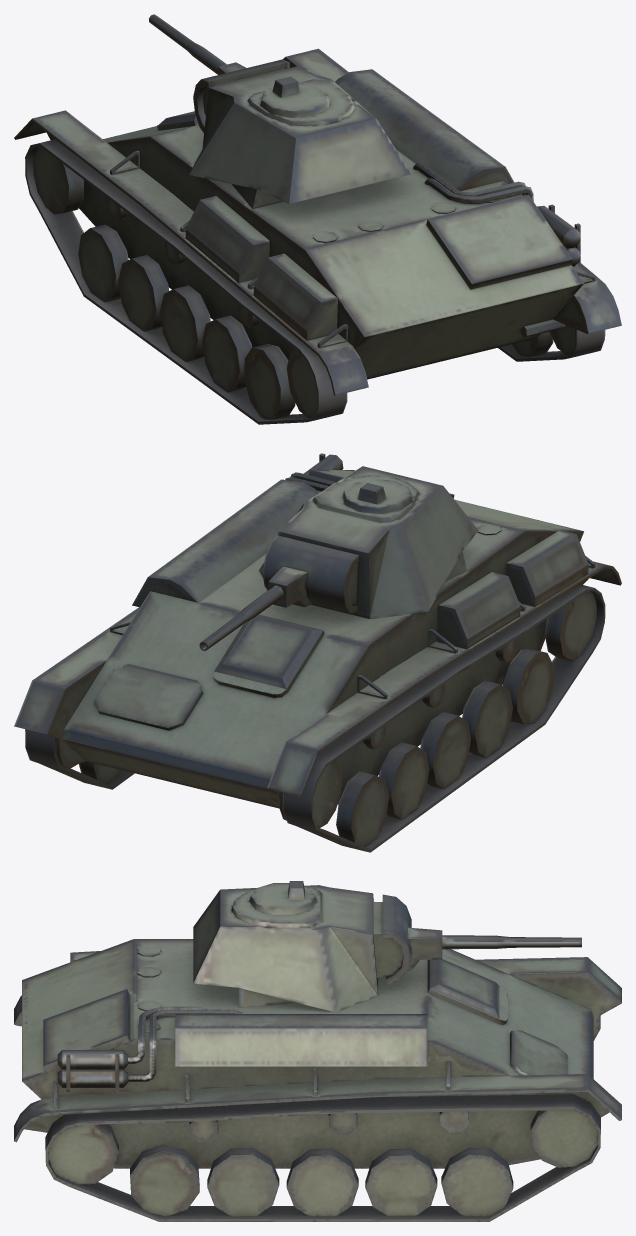
The picture shows the model from 3 angles, top to bottom: view 1: azimuth 30°, elevation 25°; view 2: azimuth 150°, elevation 25°; view 3: azimuth 270°, elevation 25°; orthographic projection. The views are drawn at different scales.
Parts seen in each view (by area): view 1: T-70 Hull, T-70 Turret; view 2: T-70 Hull, T-70 Turret; view 3: T-70 Hull, T-70 Turret.
Part boxes in pixels (box(x1,y1,x2,y2)): T-70 Hull: box(14, 48, 621, 424); T-70 Turret: box(149, 14, 411, 208); T-70 Hull: box(14, 453, 621, 852); T-70 Turret: box(199, 466, 478, 650); T-70 Hull: box(14, 939, 621, 1221); T-70 Turret: box(193, 881, 581, 1012).
Size of the model in its own units: 2.32 by 2.06 by 4.51.
